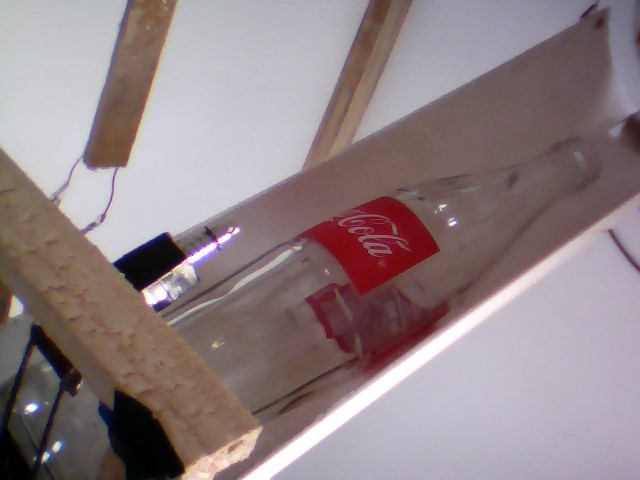vidrio: (175, 136, 611, 426)
